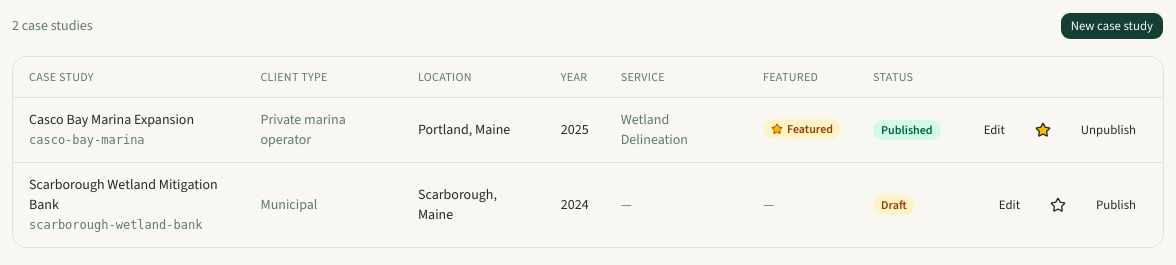
Test: ProjectsTable toggles › flips publication optimistically, writes, and revalidates
Expected: the text "Published" is shown, [873,120,941,140]
Click the button with aria-label "Unpublish Casco Bay Marina Expansion" at (1108, 130), box [1070,116,1147,144]
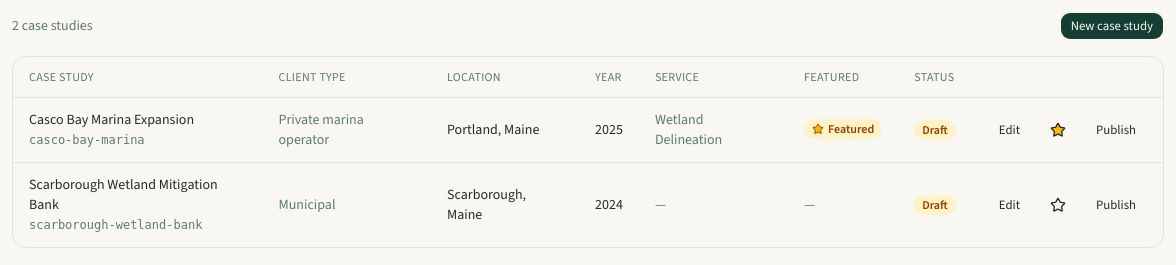
Now the text "Draft" in the row of "Casco Bay Marina Expansion" is shown, box [922,122,948,138]
